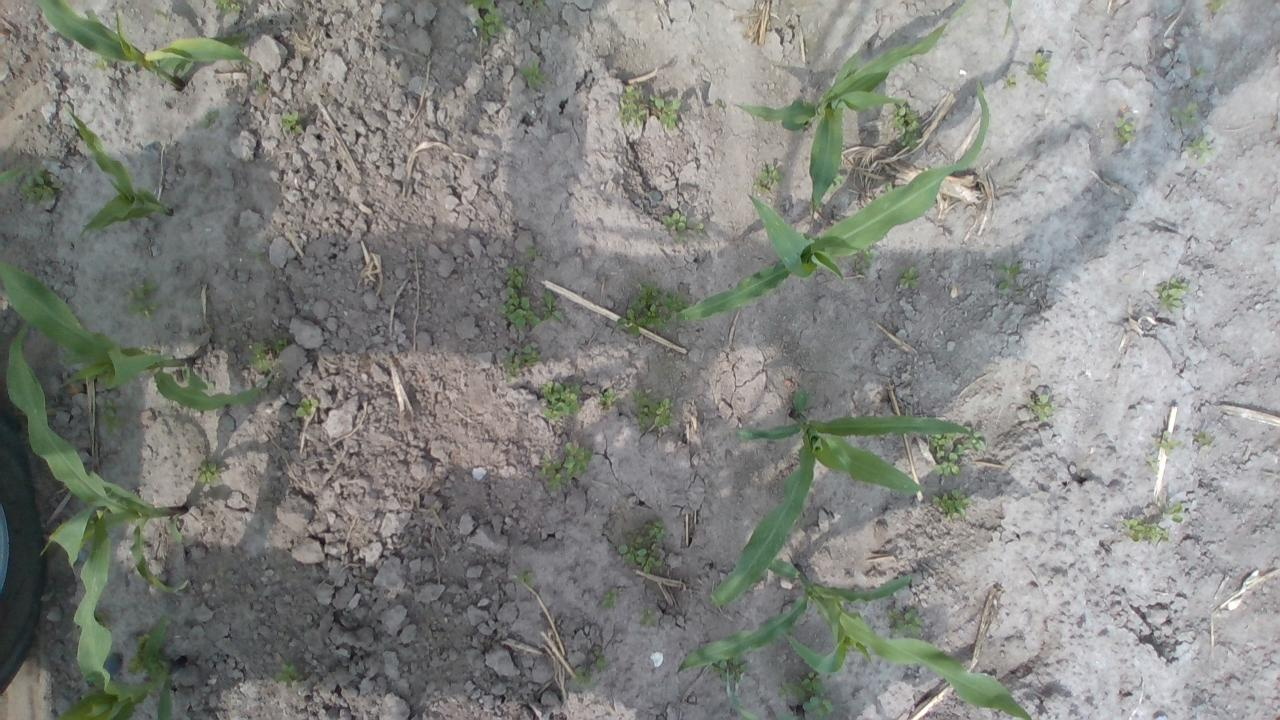Maize: (682, 85, 991, 317), (708, 386, 982, 616), (676, 555, 1044, 720), (734, 0, 1016, 210), (9, 322, 189, 596), (0, 258, 271, 410), (70, 516, 186, 720), (29, 0, 264, 94), (60, 107, 168, 238), (728, 687, 806, 720)
Weeds: (612, 279, 692, 338), (926, 420, 986, 480), (778, 667, 836, 719), (495, 264, 542, 328), (0, 162, 65, 206), (630, 386, 673, 433), (126, 632, 170, 676), (123, 273, 164, 319), (618, 535, 664, 575), (500, 340, 540, 384), (461, 0, 506, 38), (540, 380, 583, 419), (891, 99, 923, 150), (930, 485, 974, 520), (1121, 513, 1168, 545), (615, 82, 647, 127), (1152, 276, 1188, 312), (646, 93, 680, 130), (561, 441, 594, 478), (888, 606, 926, 638), (98, 397, 128, 436), (712, 652, 751, 682), (1168, 102, 1203, 132), (752, 163, 784, 194), (1025, 50, 1054, 84), (538, 454, 565, 490), (1028, 392, 1058, 424), (520, 57, 550, 88), (659, 210, 687, 243), (853, 241, 880, 275), (539, 288, 563, 326), (1150, 430, 1180, 459), (247, 341, 272, 375), (1110, 115, 1138, 143), (994, 260, 1021, 289), (274, 660, 304, 685), (597, 384, 623, 412), (1182, 136, 1214, 158), (278, 109, 304, 134), (570, 666, 596, 690), (1195, 429, 1218, 453), (198, 459, 221, 483), (294, 397, 320, 418), (200, 107, 222, 130), (222, 30, 248, 49), (636, 606, 657, 629), (210, 0, 242, 14), (896, 266, 916, 288), (89, 52, 108, 75), (600, 586, 619, 609), (1163, 504, 1187, 522), (518, 564, 534, 590), (1143, 454, 1161, 476), (595, 650, 613, 671), (646, 521, 667, 539), (1203, 0, 1229, 14), (827, 172, 845, 192), (254, 76, 270, 96), (93, 609, 110, 627), (999, 74, 1016, 90), (270, 338, 288, 350), (140, 346, 159, 357), (691, 220, 704, 236), (523, 246, 537, 260), (252, 246, 264, 262), (522, 0, 546, 8), (1195, 64, 1205, 76), (884, 181, 893, 191)
